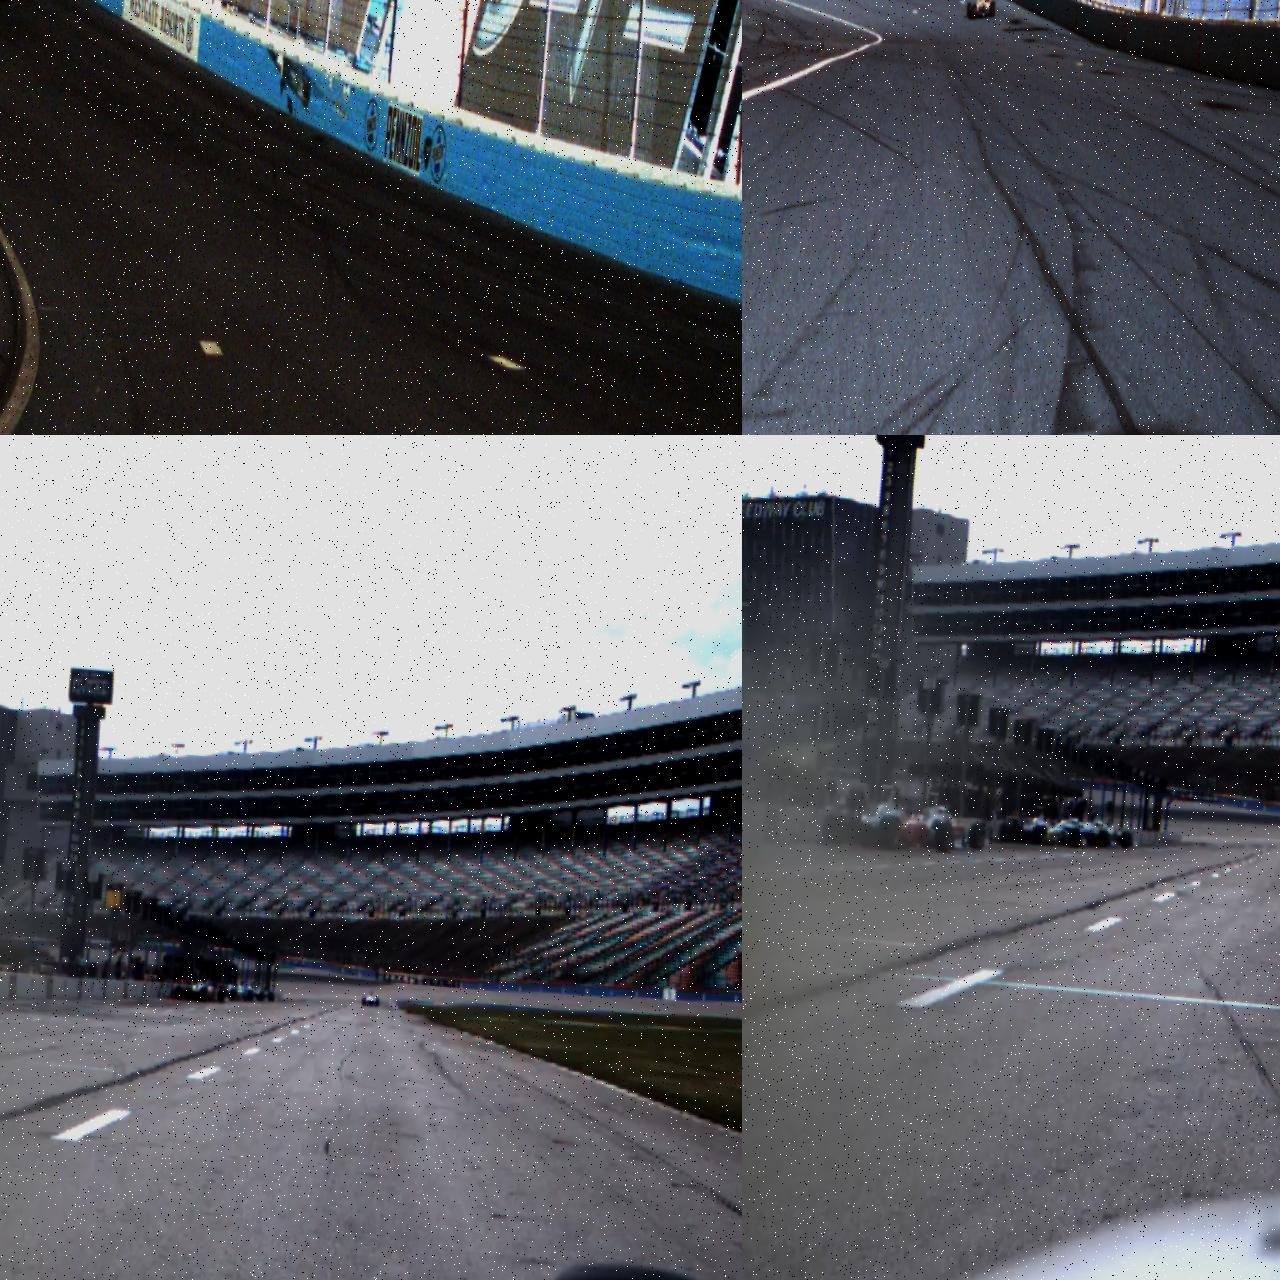AV: (966, 0, 998, 20), (362, 990, 380, 1007)
Wheel: (822, 813, 847, 845), (879, 819, 901, 847), (934, 823, 953, 852), (968, 822, 987, 850), (1032, 825, 1047, 845), (1069, 831, 1082, 847), (1121, 831, 1132, 849), (1098, 830, 1110, 847), (199, 985, 209, 1002), (175, 987, 184, 1000), (218, 987, 225, 1003), (229, 988, 237, 1002), (971, 4, 978, 18), (989, 1, 995, 18), (247, 990, 254, 1001), (258, 990, 265, 1001), (966, 2, 971, 18), (361, 996, 367, 1006), (268, 993, 274, 1002), (376, 999, 380, 1007)
